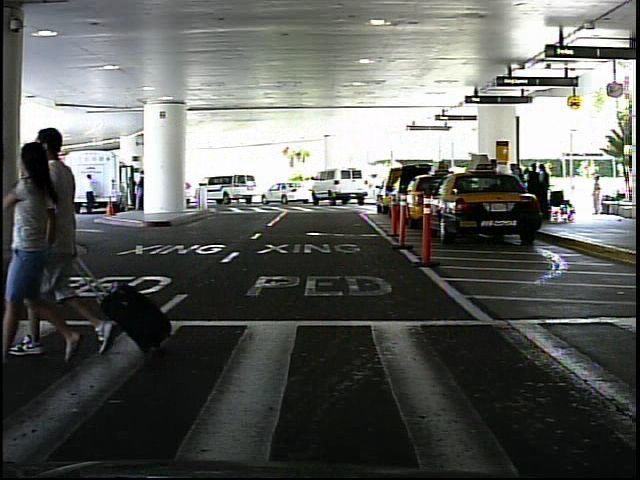person: (35, 114, 102, 361), (81, 170, 99, 220), (588, 172, 607, 218), (369, 168, 380, 203)
